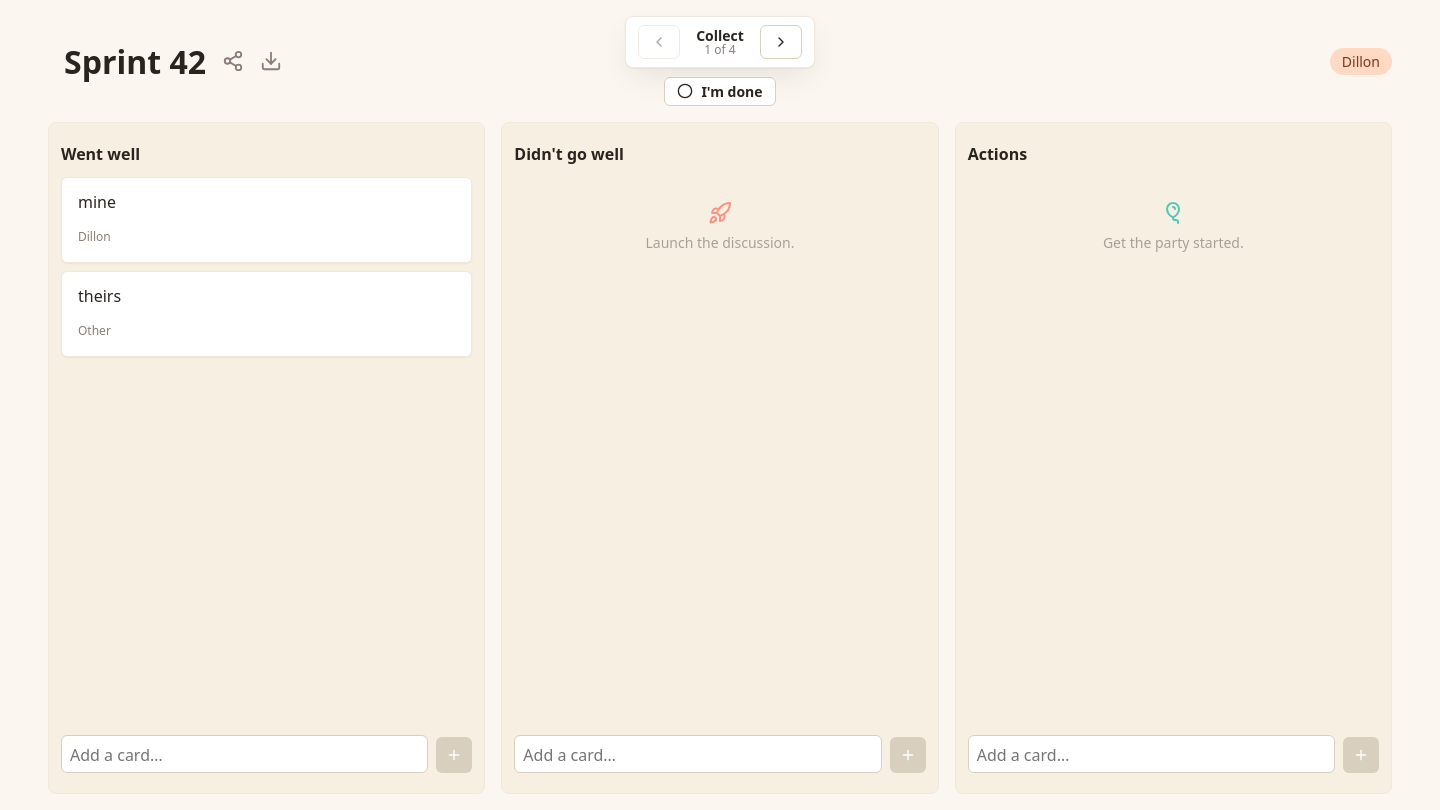
Test case: Room page › shows CardForm in Collect and hides it after Advance
This screenshot has width=1440, height=810.
Expected: the text box named "new card text" is shown, x1=61 y1=735 x2=428 y2=773
Click the button named "Advance: Vote". click: (781, 42)
box: x1=760 y1=25 x2=802 y2=59
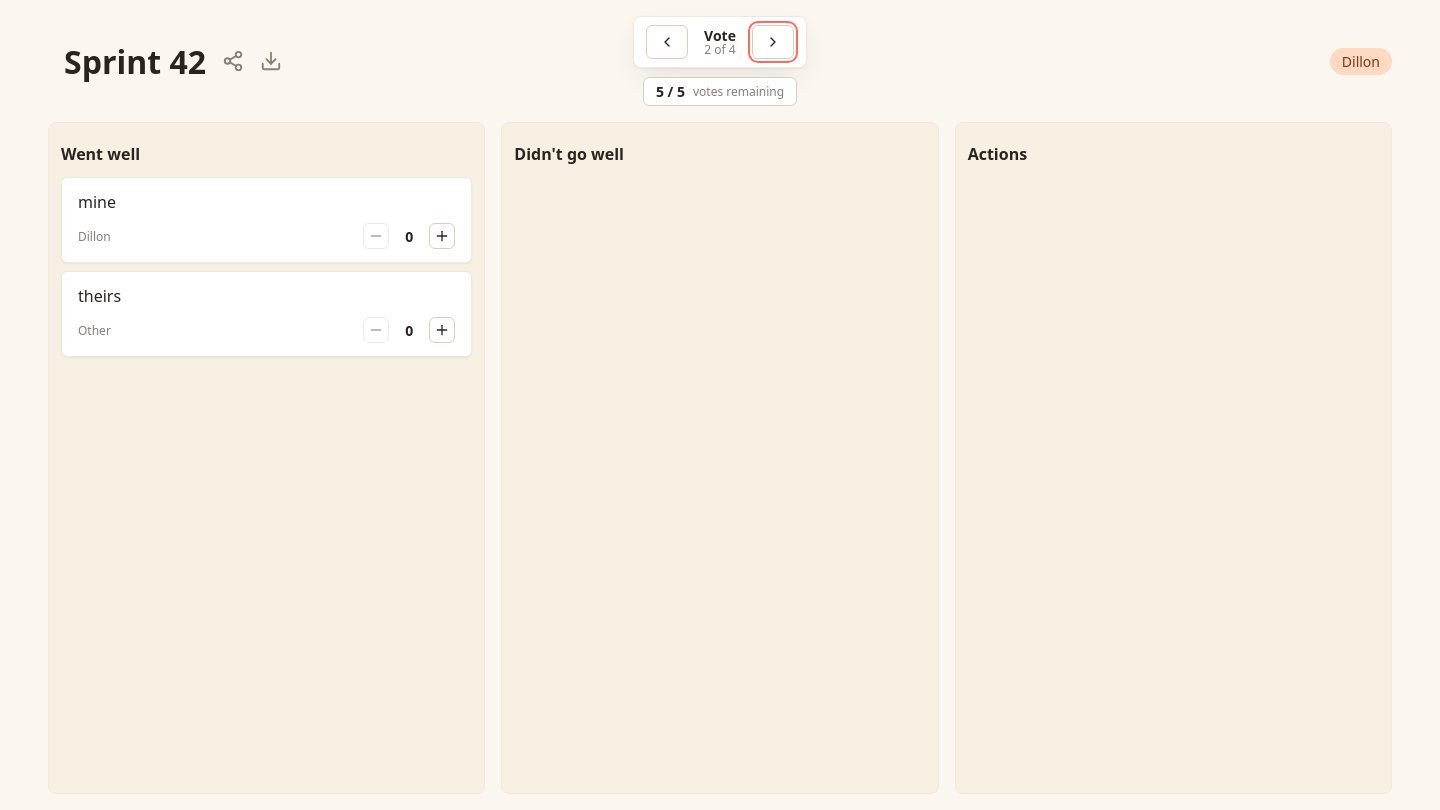
Result: the element named "current phase" shows "Vote" at x1=704 y1=26 x2=736 y2=45
